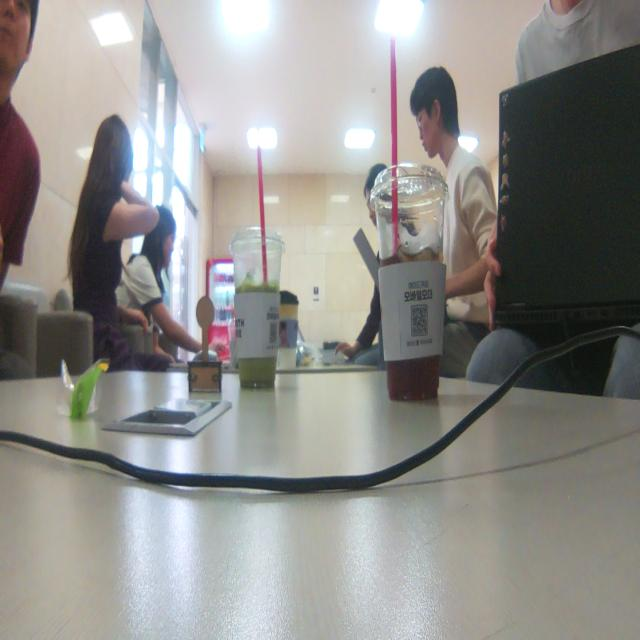target: (187, 294, 222, 394)
